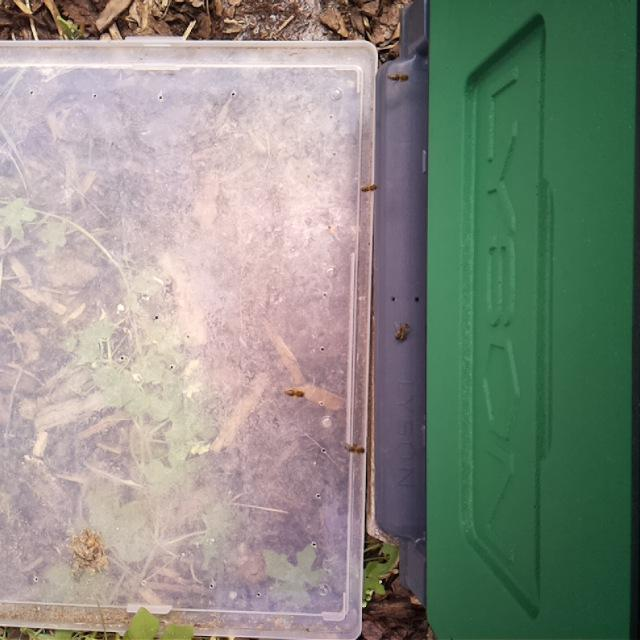worker-bee: (339, 436, 370, 459), (393, 320, 419, 346), (283, 383, 311, 404), (358, 179, 384, 196), (386, 71, 412, 85)
